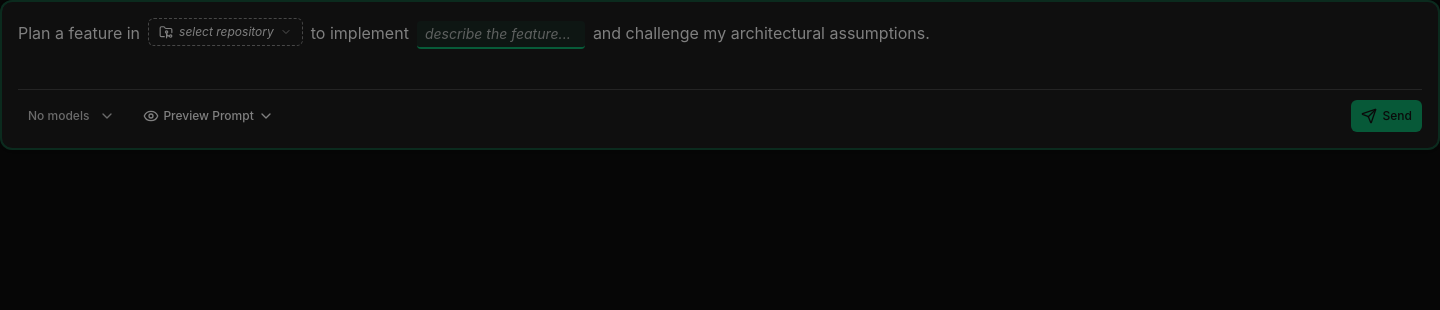
Test case: FluentSentenceInput › toggles prompt preview correctly
The image size is (1440, 310).
Check: the text "Generated Agent Prompt" is not shown
What coordinates should you click on to do the following:
click the button "Preview Prompt"
I would click on:
 (209, 116)
Its box is left=133, top=104, right=284, bottom=128.
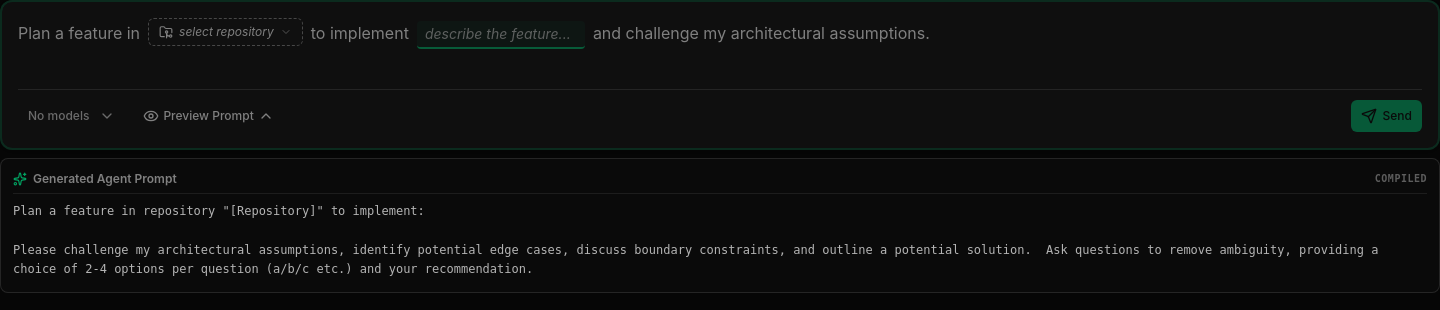
Check: the text "Generated Agent Prompt" is shown, box left=13, top=170, right=177, bottom=186
What coordinates should you click on to do the following:
click the button "Preview Prompt"
I would click on:
 (209, 116)
Its box is left=133, top=104, right=284, bottom=128.
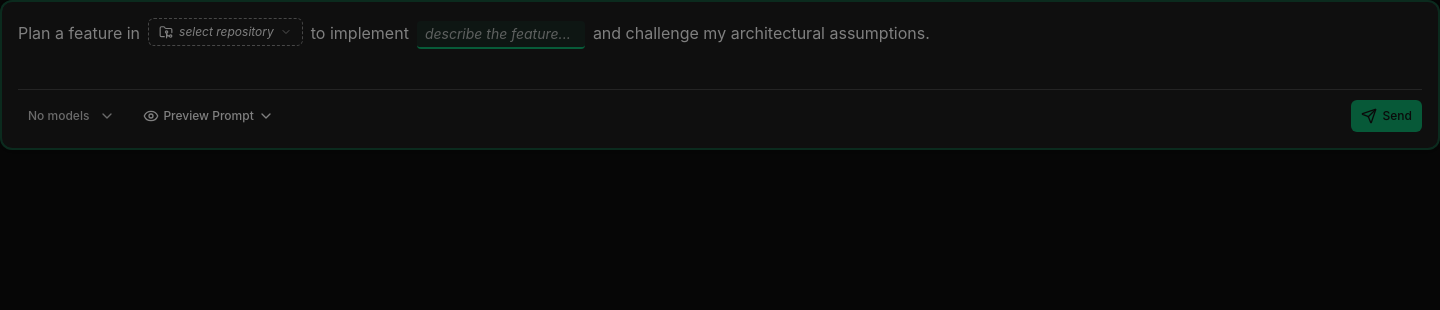
Check: the text "Generated Agent Prompt" is gone
